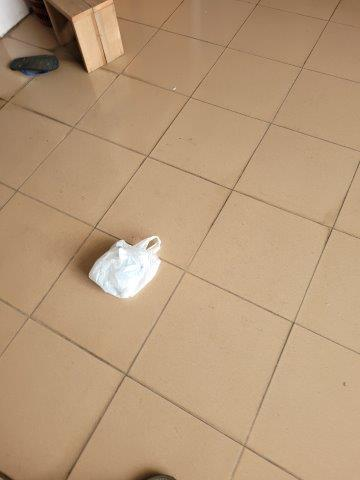plastik: (87, 237, 162, 297)
